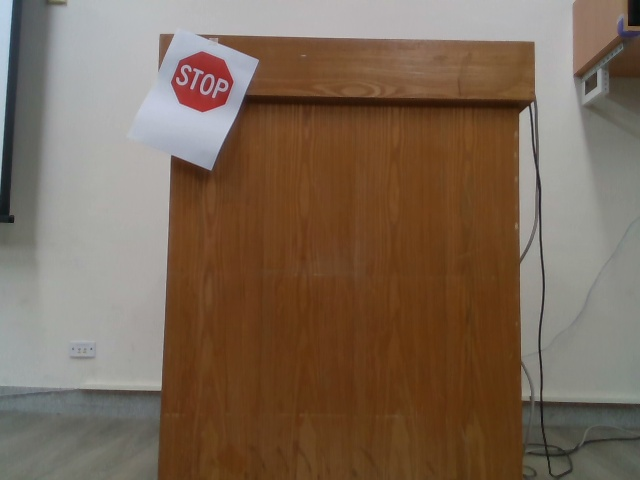stop: (170, 51, 236, 113)
